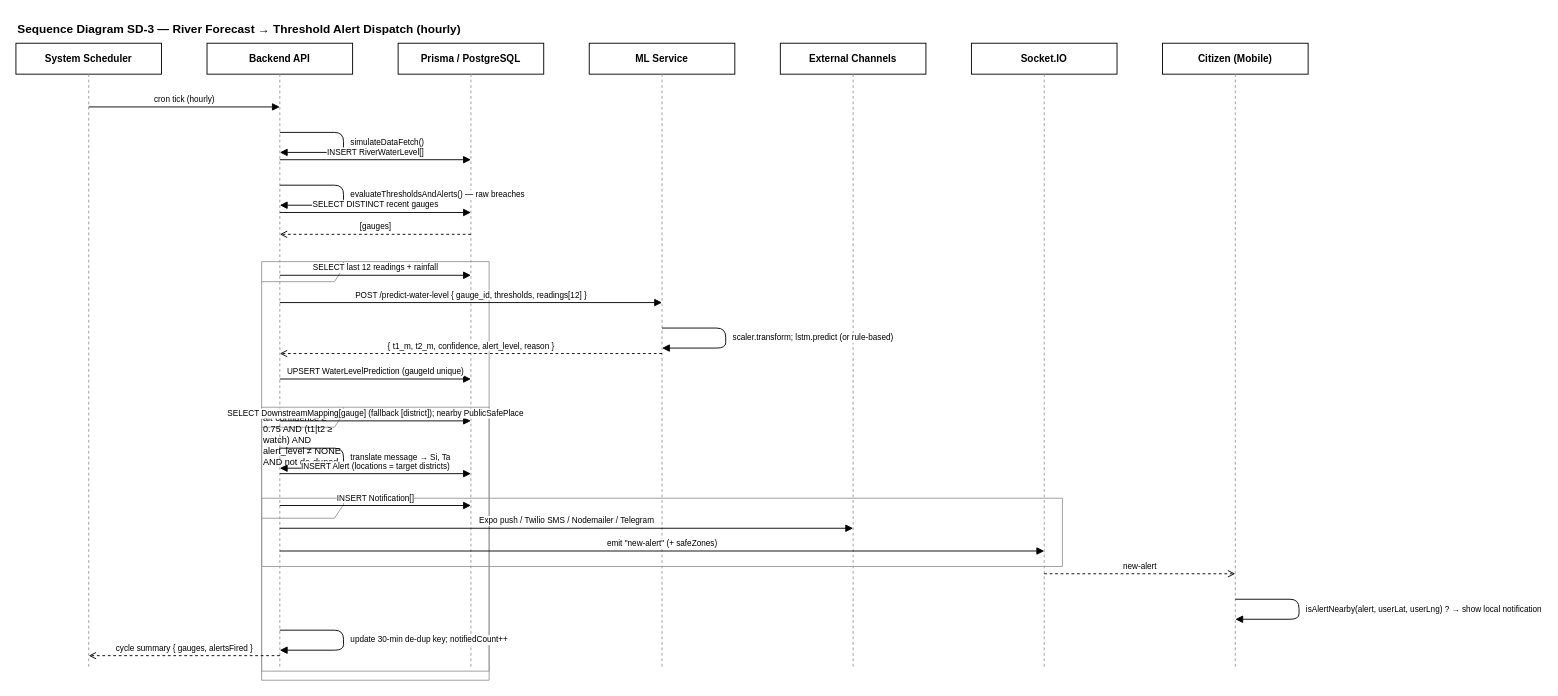
This 1558x696 diagram has some shape labels left out. Here are the shapes that lost their labels. From the top down, the box of each, then its label:
(261, 261, 489, 680): loop for each gauge (500 ms stagger)
(261, 497, 1062, 566): par dispatch
